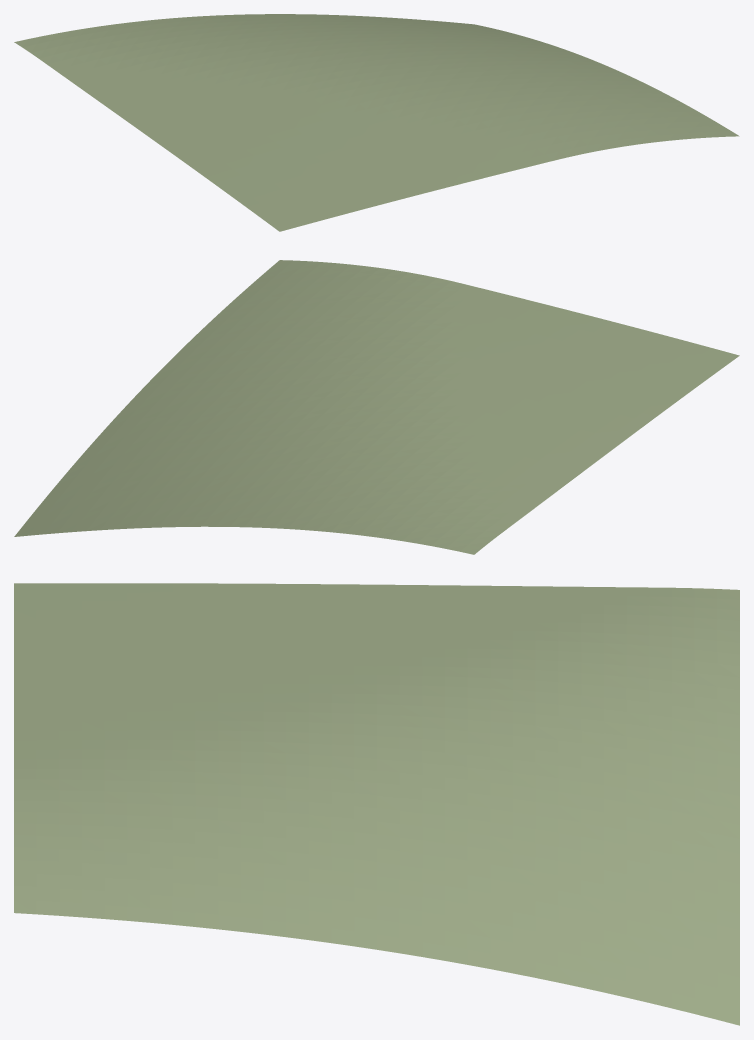
File: expanse-22-4.glb
3 renders of one model, top to bottom at view 1: azimuth 30°, elevation 25°; view 2: azimuth 150°, elevation 25°; view 3: azimuth 270°, elevation 25°, orthographic. The views are drawn at different scales.
Parts seen in each view (by area): view 1: expanse-22-4; view 2: expanse-22-4; view 3: expanse-22-4.
Boxes of the visible parts, <box> form: expanse-22-4: <box>14,14,739,231</box>; expanse-22-4: <box>14,260,739,554</box>; expanse-22-4: <box>14,583,739,1025</box>.
Bounding box in the file's own units: 256 × 55.25 × 256.
